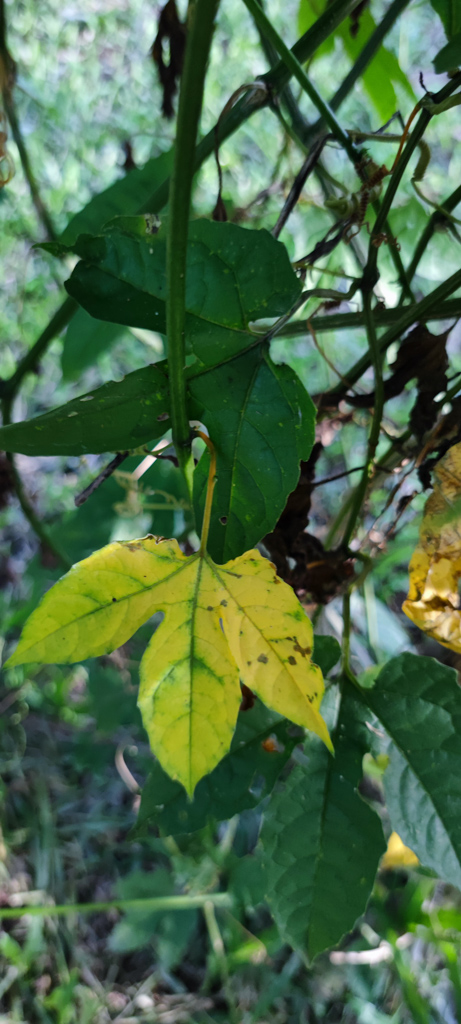Pepper yellow leaf: (15, 532, 325, 807), (409, 435, 458, 669)
